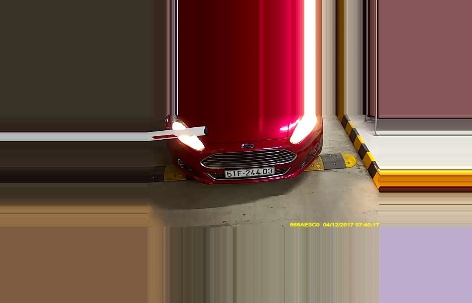plate: (223, 164, 276, 175)
